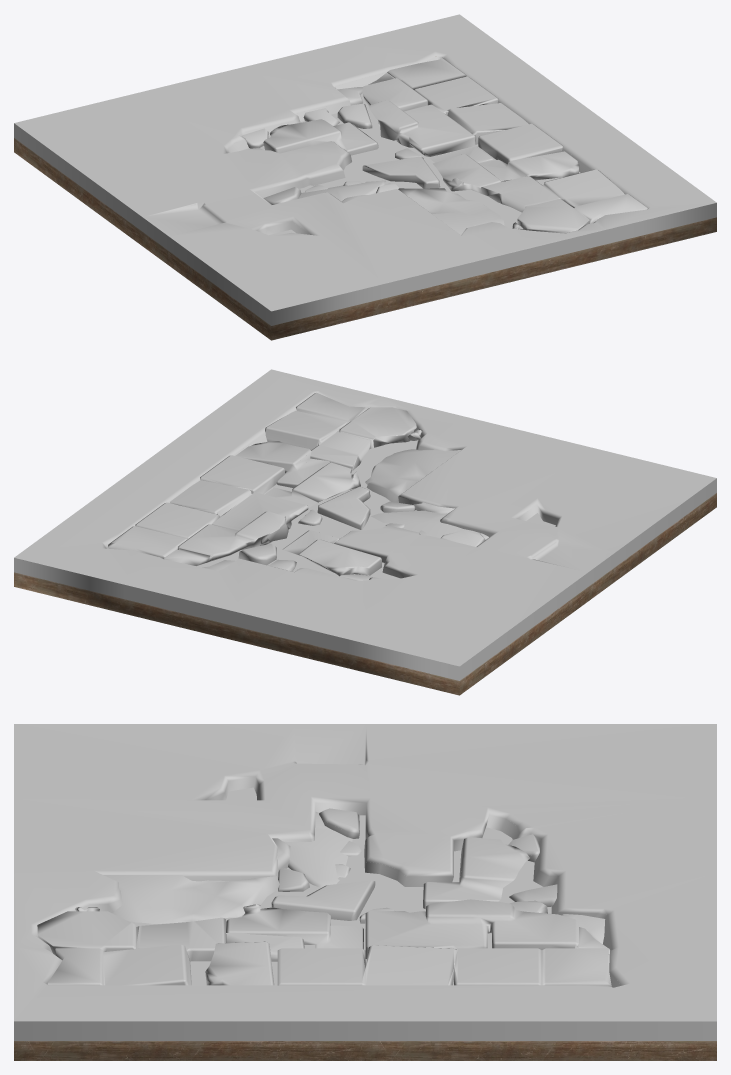
3 views of the same model, one above another, from view 1: azimuth 30°, elevation 25°; view 2: azimuth 150°, elevation 25°; view 3: azimuth 270°, elevation 25° (orthographic). The views are drawn at different scales.
Visible parts, largest first — view 1: SM_Greathall_Floor_8x8_Dmg_04_NVC_LOD0; view 2: SM_Greathall_Floor_8x8_Dmg_04_NVC_LOD0; view 3: SM_Greathall_Floor_8x8_Dmg_04_NVC_LOD0.
Boxes of the visible parts, <box> form: SM_Greathall_Floor_8x8_Dmg_04_NVC_LOD0: <box>14,14,716,340</box>; SM_Greathall_Floor_8x8_Dmg_04_NVC_LOD0: <box>14,369,716,695</box>; SM_Greathall_Floor_8x8_Dmg_04_NVC_LOD0: <box>14,724,716,1060</box>.
Size of the model in its own units: 8 by 0.6005 by 8.
